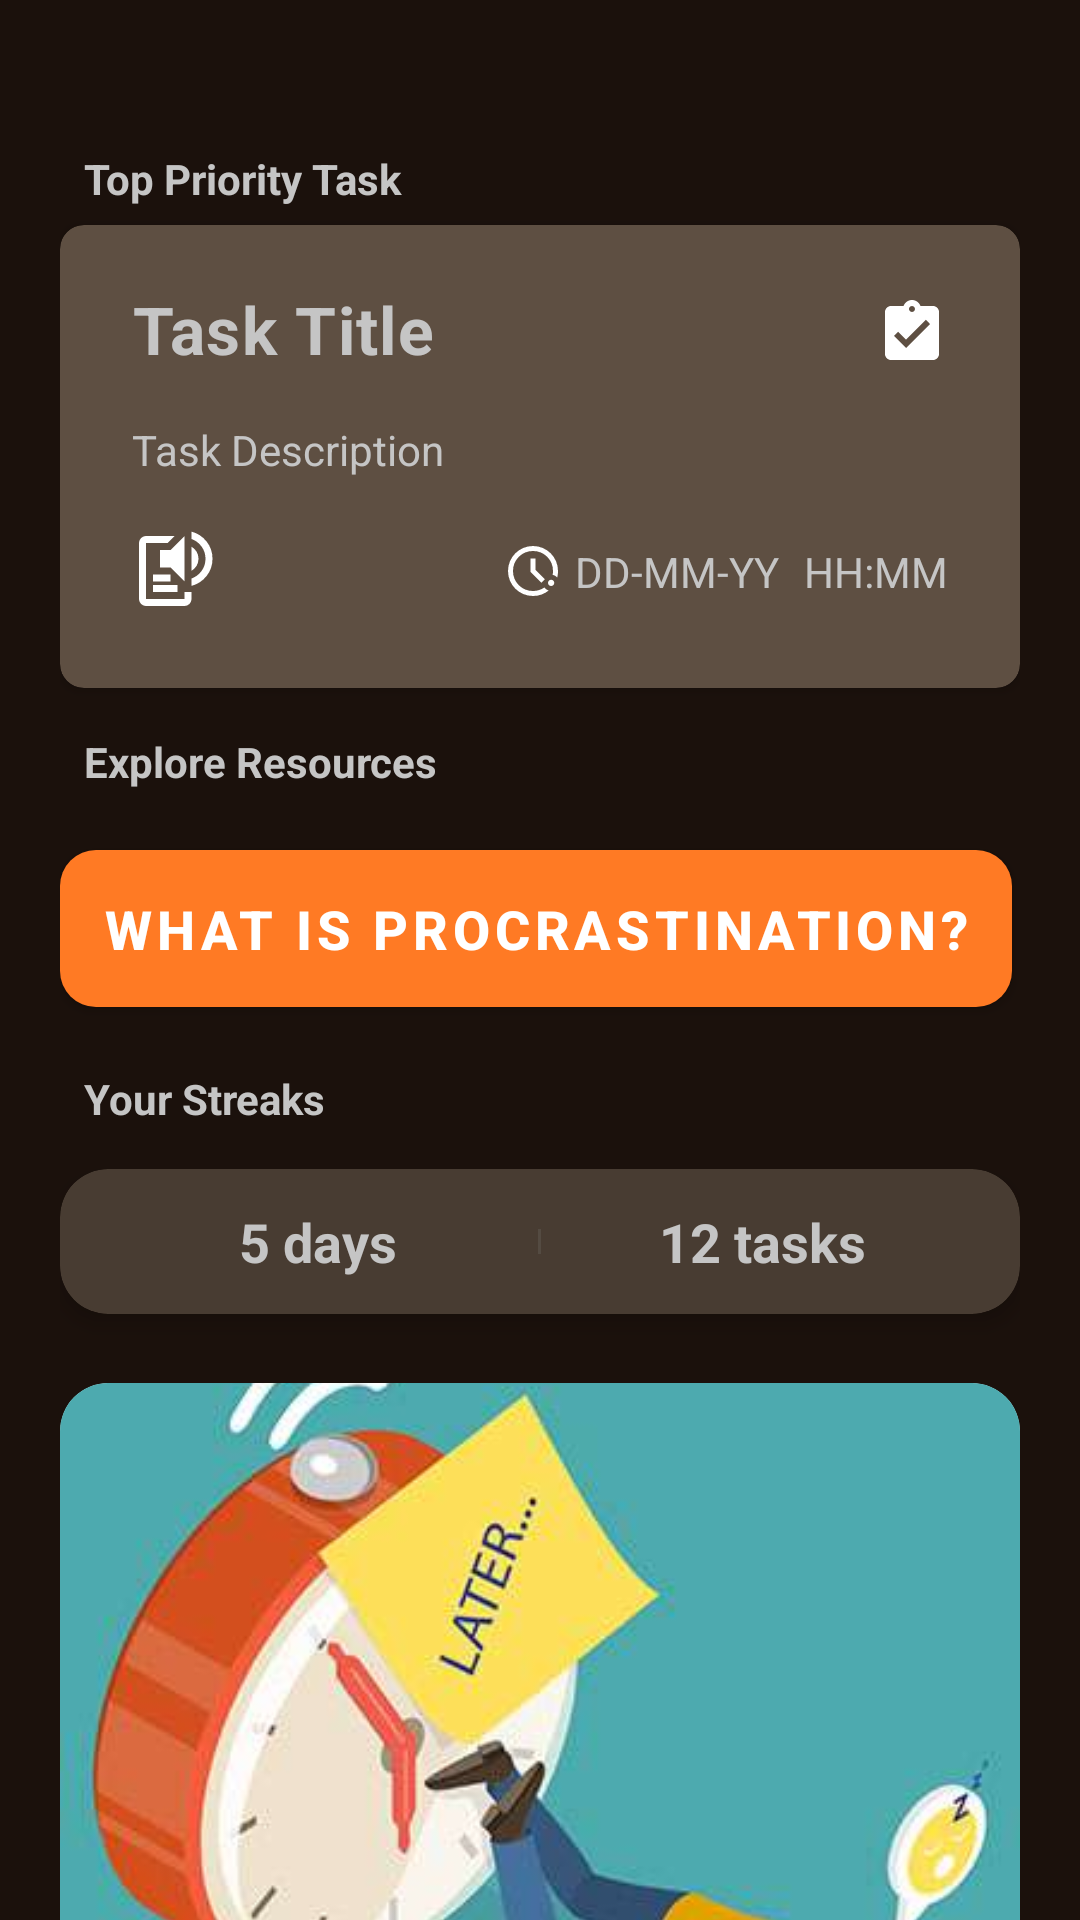

Icon bounding boxes for this 1080 x 1920 phone screenshot, format (x1, y1, x2, y2):
due date: (508, 546, 558, 596)
tasks: (885, 300, 939, 360)
